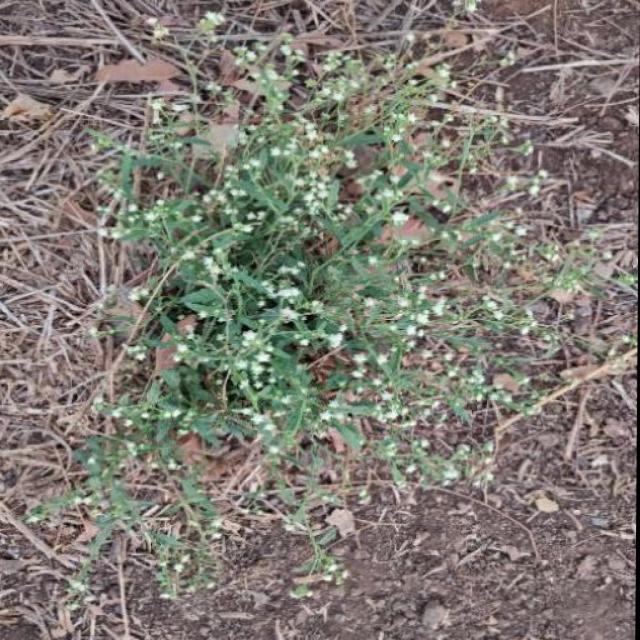weed: (143, 56, 572, 460)
